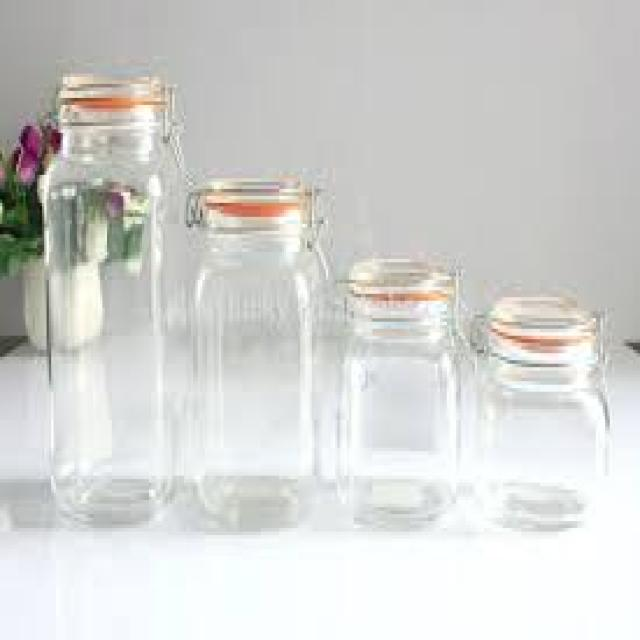biodegradable: (0, 140, 40, 266), (102, 192, 142, 259), (12, 147, 44, 182), (14, 122, 47, 154), (42, 119, 63, 150), (100, 186, 121, 214)
glass: (44, 77, 172, 521), (186, 178, 326, 521), (335, 255, 456, 521), (473, 294, 608, 532)
